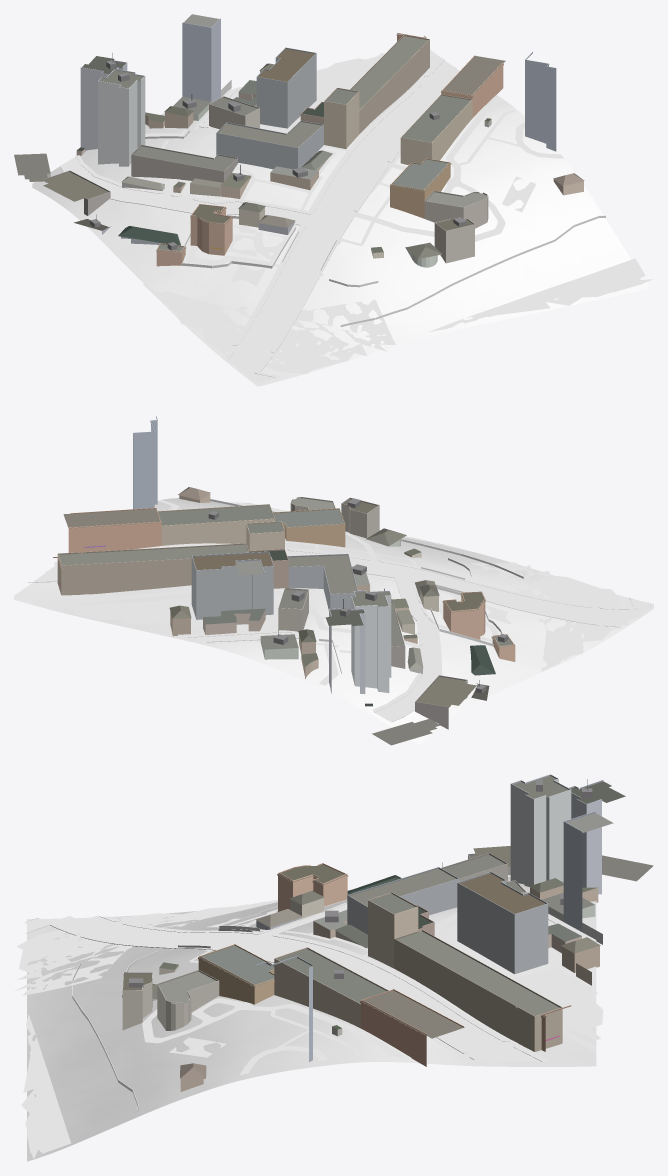
3 views of the same model, one above another, from view 1: azimuth 30°, elevation 25°; view 2: azimuth 150°, elevation 25°; view 3: azimuth 270°, elevation 25° (orthographic). The views are drawn at different scales.
Parts seen in each view (by area): view 1: t0_-10_-7; view 2: t0_-10_-7; view 3: t0_-10_-7.
Part boxes in pixels (x1,y1,x2,y2): t0_-10_-7: (14,14,653,386); t0_-10_-7: (14,415,653,745); t0_-10_-7: (14,774,653,1161).
Size of the model in its own units: 276 by 102 by 288.
